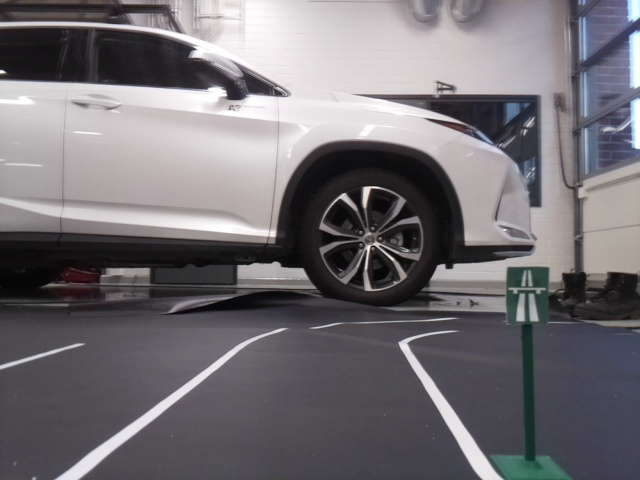HighwayEntrance: (508, 268, 548, 323)
